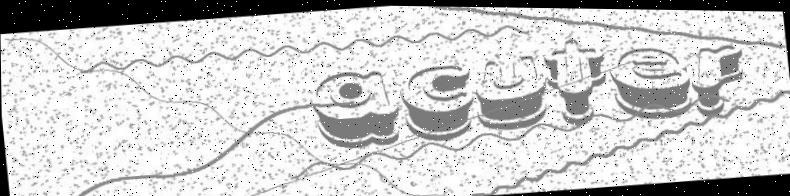a: (308, 66, 404, 153)
c: (398, 61, 478, 144)
e: (605, 41, 694, 123)
r: (686, 41, 749, 116)
t: (541, 31, 613, 127)
u: (470, 51, 551, 132)
